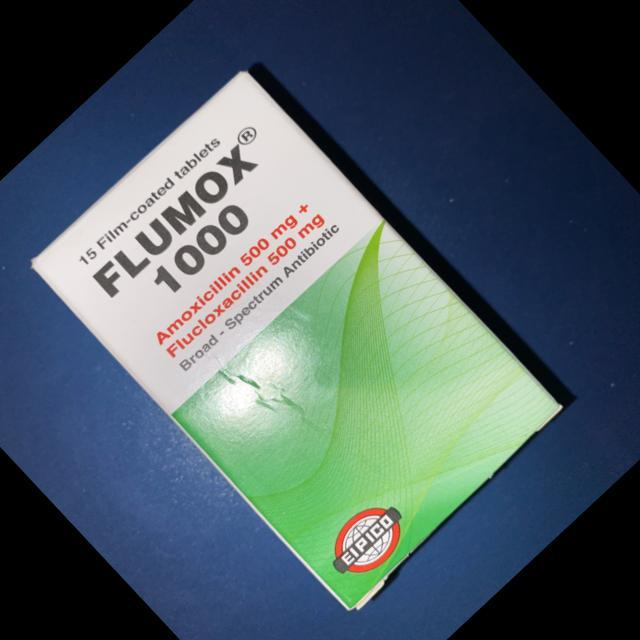Medicine Name: (84, 138, 266, 312)
